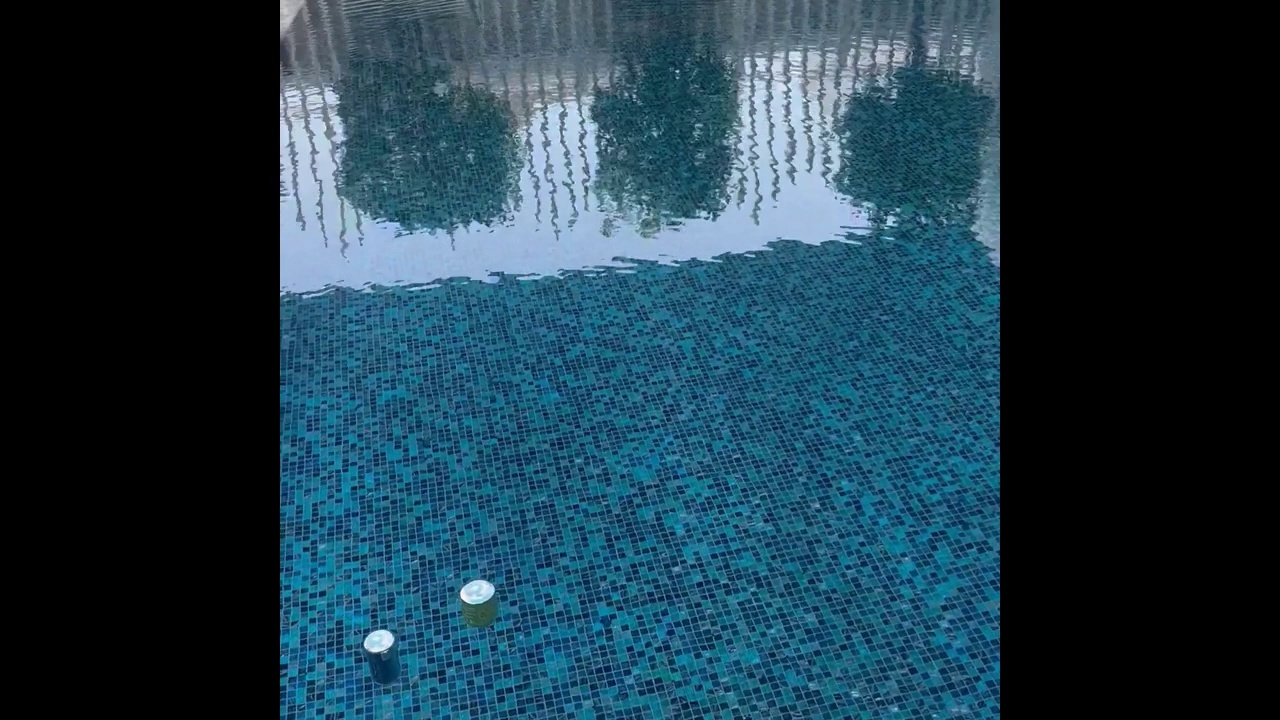debris: (356, 623, 409, 685), (455, 577, 506, 637)
